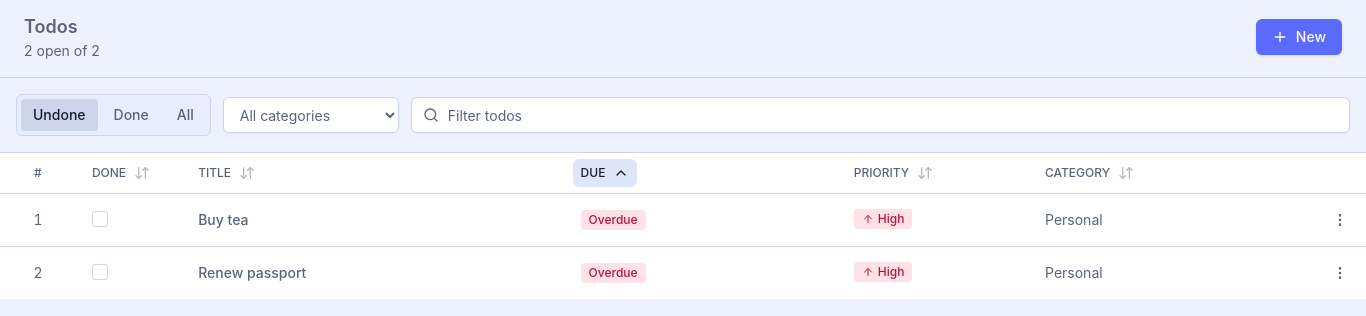
TodosListView › renders checklist rows and filters by metadata
The width and height of the screenshot is (1366, 316).
Expected: the heading "Todos" is shown, [24,16,78,37]
Expected: the button "Renew passport" is shown, [198,262,306,282]
Type "passport" into the field labelled "Filter todos" at (880, 115), box [411,97,1350,133]
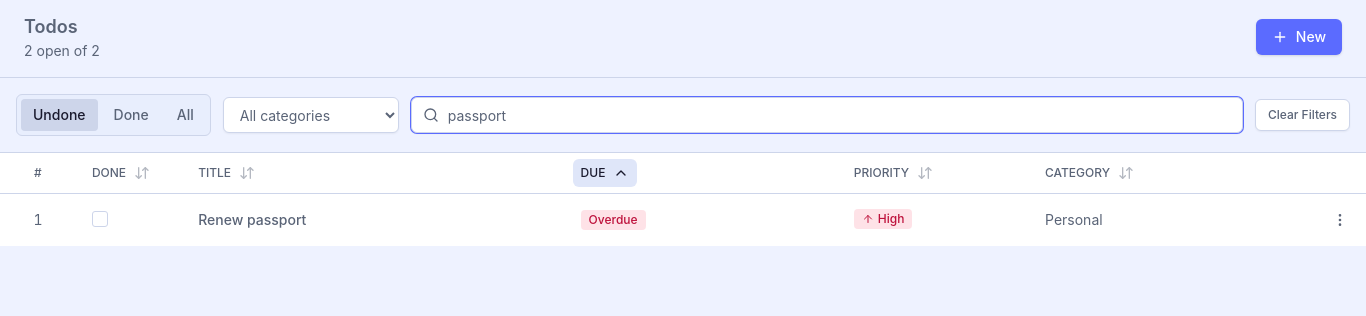
Expected: the button "Renew passport" is shown, [198,210,306,230]
Now the button "Buy tea" is gone
